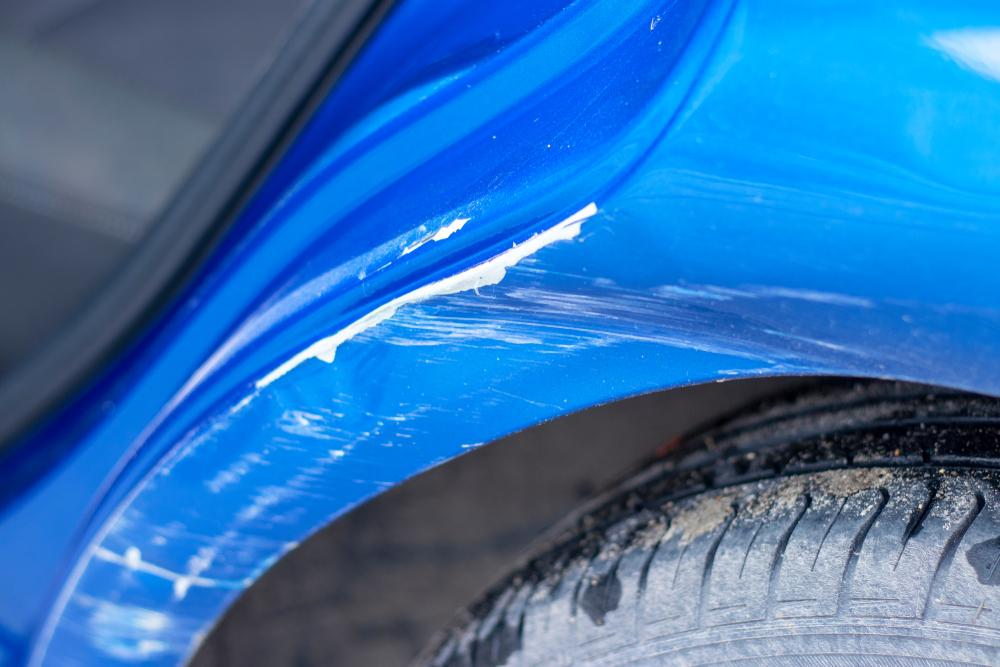dent: (260, 212, 674, 439)
scratch: (64, 384, 490, 661), (614, 284, 905, 380)
